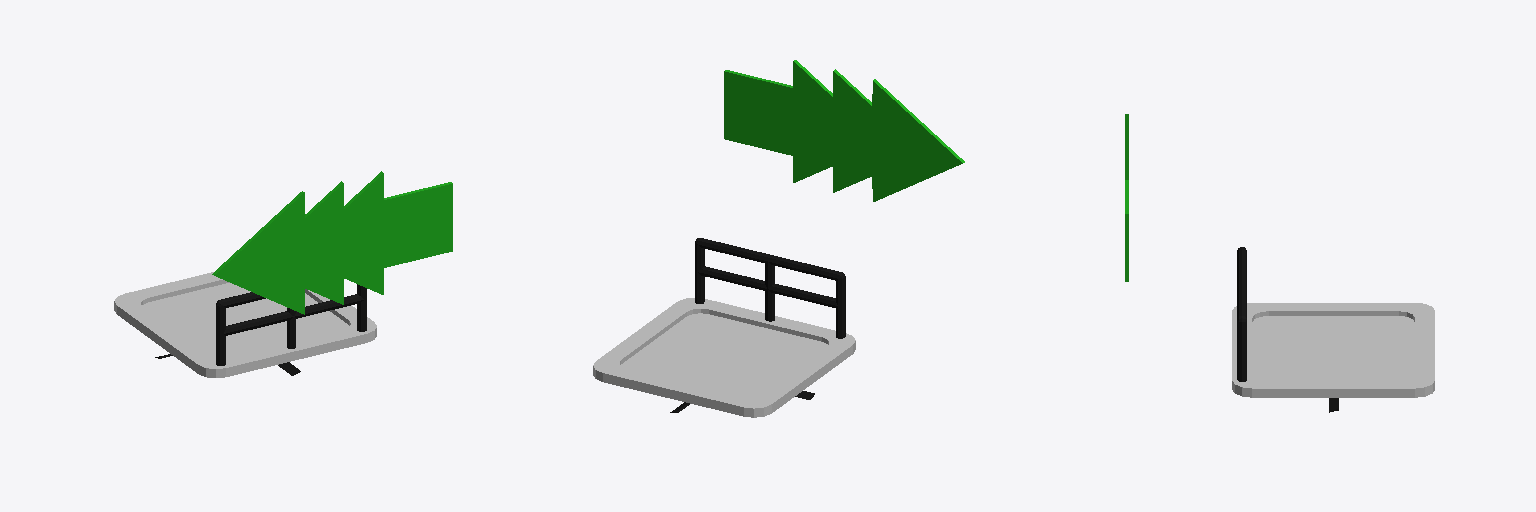
The model's file is Speed2Model.obj.
3 renders of one model, left to right at view 1: azimuth 30°, elevation 25°; view 2: azimuth 150°, elevation 25°; view 3: azimuth 270°, elevation 25°, orthographic.
Visible parts, largest first — view 1: Arrow:group3_pasted__group1_pasted__pasted__pCube1, floatin_platform:Mesh; view 2: floatin_platform:Mesh, Arrow:group3_pasted__group1_pasted__pasted__pCube1; view 3: floatin_platform:Mesh, Arrow:group3_pasted__group1_pasted__pasted__pCube1.
Boxes of the visible parts, x1,y1,x2,y2 form: Arrow:group3_pasted__group1_pasted__pasted__pCube1: [212, 171, 452, 314]; floatin_platform:Mesh: [114, 272, 376, 377]; floatin_platform:Mesh: [593, 238, 855, 417]; Arrow:group3_pasted__group1_pasted__pasted__pCube1: [724, 60, 964, 201]; floatin_platform:Mesh: [1232, 247, 1434, 412]; Arrow:group3_pasted__group1_pasted__pasted__pCube1: [1125, 114, 1128, 281].
Size of the model in its own units: 2.72 by 2.77 by 3.06.